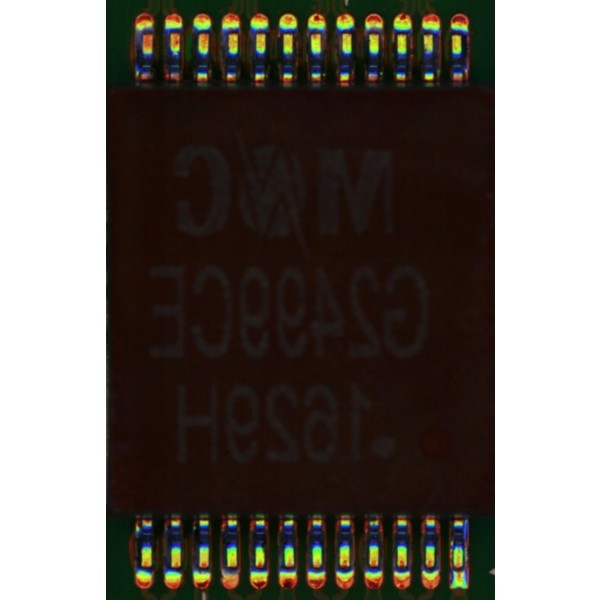Bad_podu: (455, 564, 463, 579)
Bad_qiaojiao: (464, 528, 469, 566), (449, 535, 454, 566)
